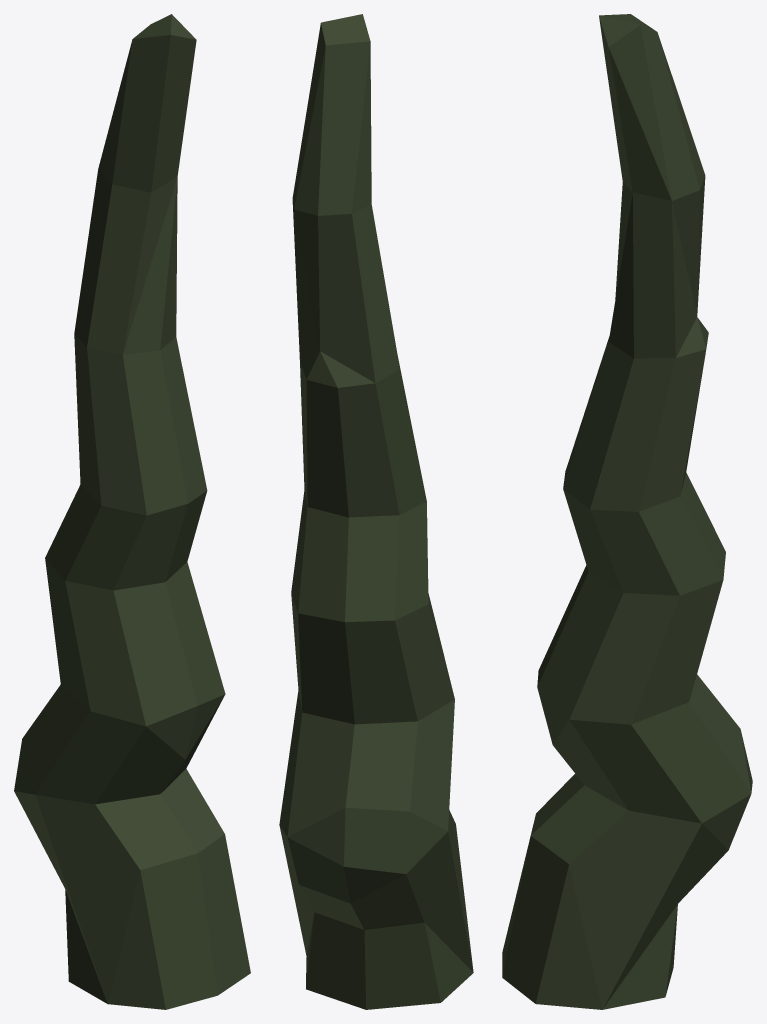
The model's file is EA_Swamp_Grass_Dead_03a.glb.
3 renders of one model, left to right at view 1: azimuth 30°, elevation 25°; view 2: azimuth 150°, elevation 25°; view 3: azimuth 270°, elevation 25°, orthographic. The views are drawn at different scales.
Parts seen in each view (by area): view 1: EA_Swamp_Grass_Dead_03a; view 2: EA_Swamp_Grass_Dead_03a; view 3: EA_Swamp_Grass_Dead_03a.
Boxes of the visible parts, left/top/right/bottom form: EA_Swamp_Grass_Dead_03a: left=14, top=14, right=250, bottom=1009; EA_Swamp_Grass_Dead_03a: left=279, top=14, right=473, bottom=1009; EA_Swamp_Grass_Dead_03a: left=502, top=14, right=752, bottom=1009.
Size of the model in its own units: 0.118 by 0.6498 by 0.1516.
1 material, 1 textured.
